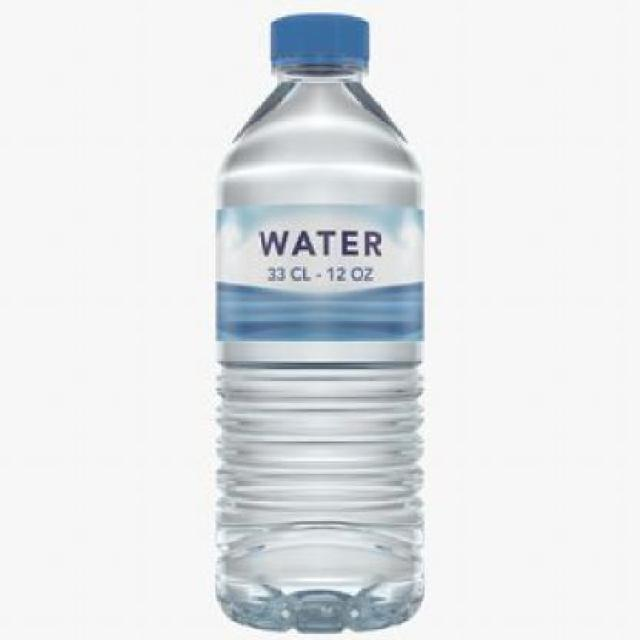bottle: (211, 15, 429, 634)
